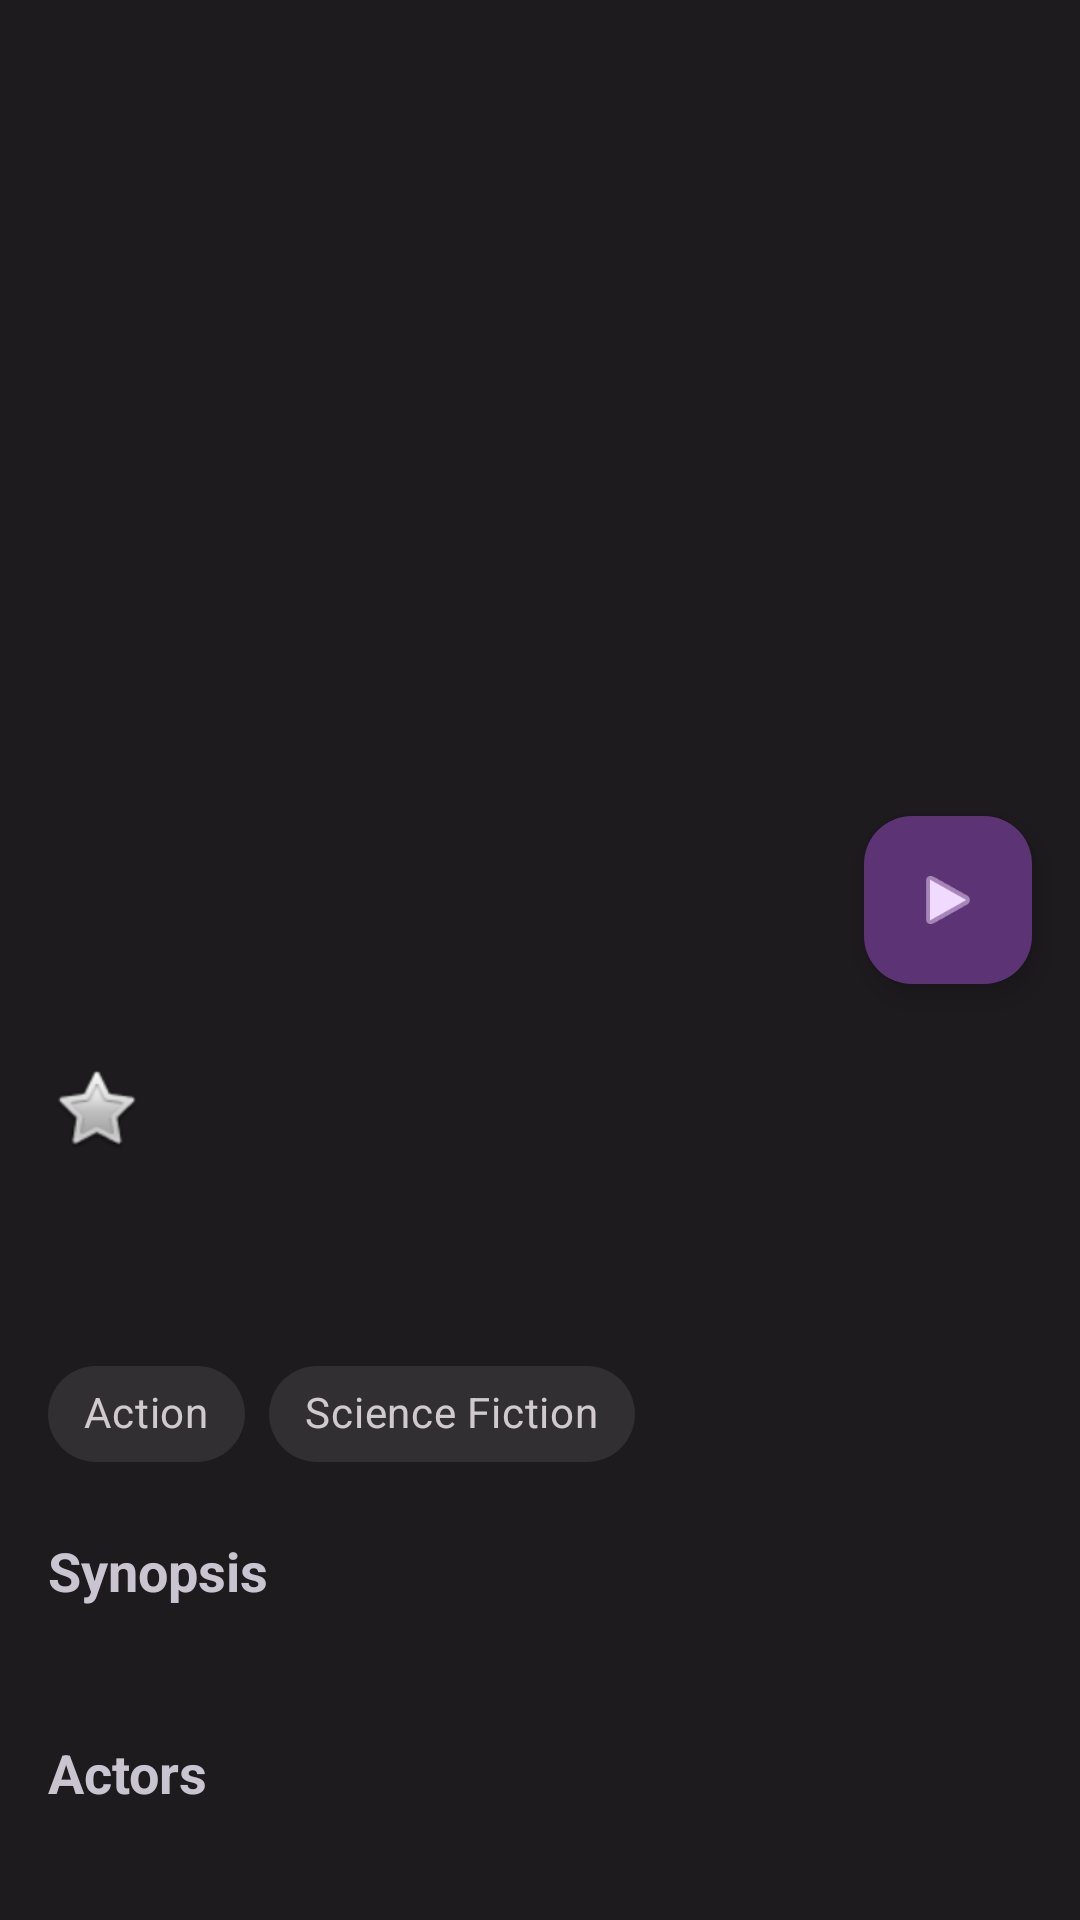

Icon click points for this 1080px×1920px phone screenshot, format point (x, y):
Watch Trailer: point (948, 900)
